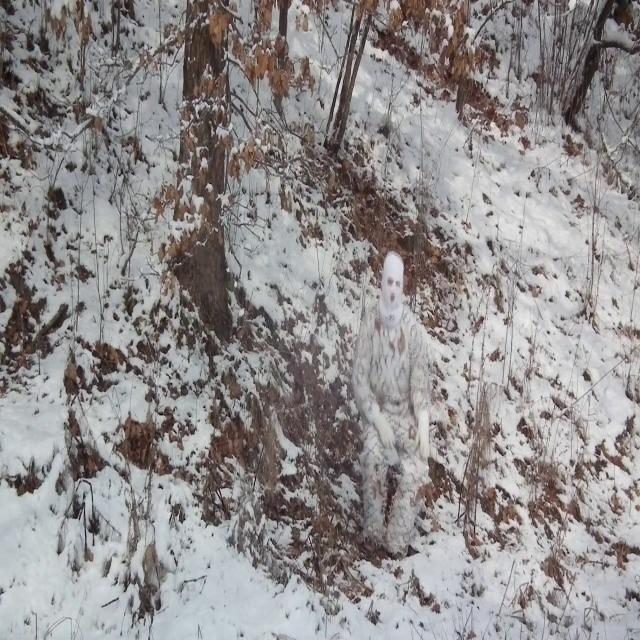Camouflage: (348, 252, 429, 555)
